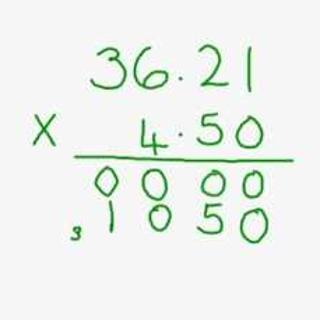.: (171, 68, 185, 88), (175, 123, 188, 144)
0: (227, 109, 267, 153), (236, 205, 271, 247), (138, 166, 172, 203), (90, 162, 122, 198), (141, 203, 177, 235), (237, 165, 266, 204), (196, 166, 228, 199)
1: (101, 197, 123, 236), (240, 42, 255, 94)
2: (193, 34, 233, 93)
3: (83, 43, 128, 95)
4: (133, 113, 171, 156)
5: (194, 106, 226, 150), (195, 201, 228, 238)
6: (130, 42, 171, 95)
